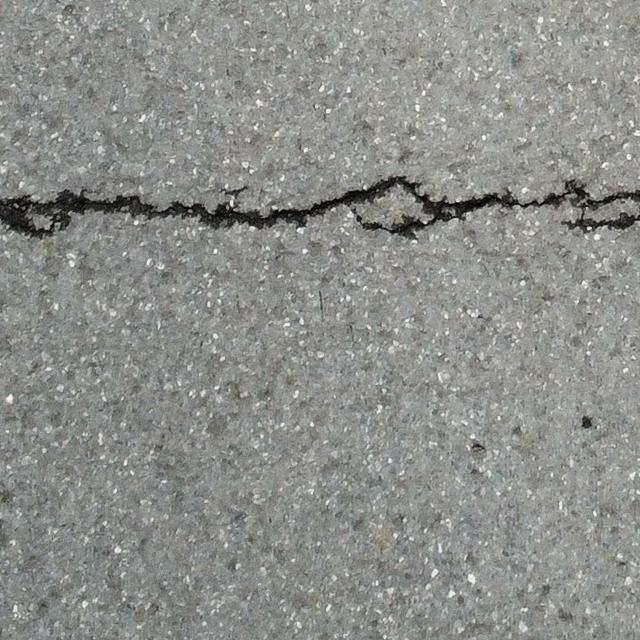TransverseCrack: (1, 174, 640, 239)
